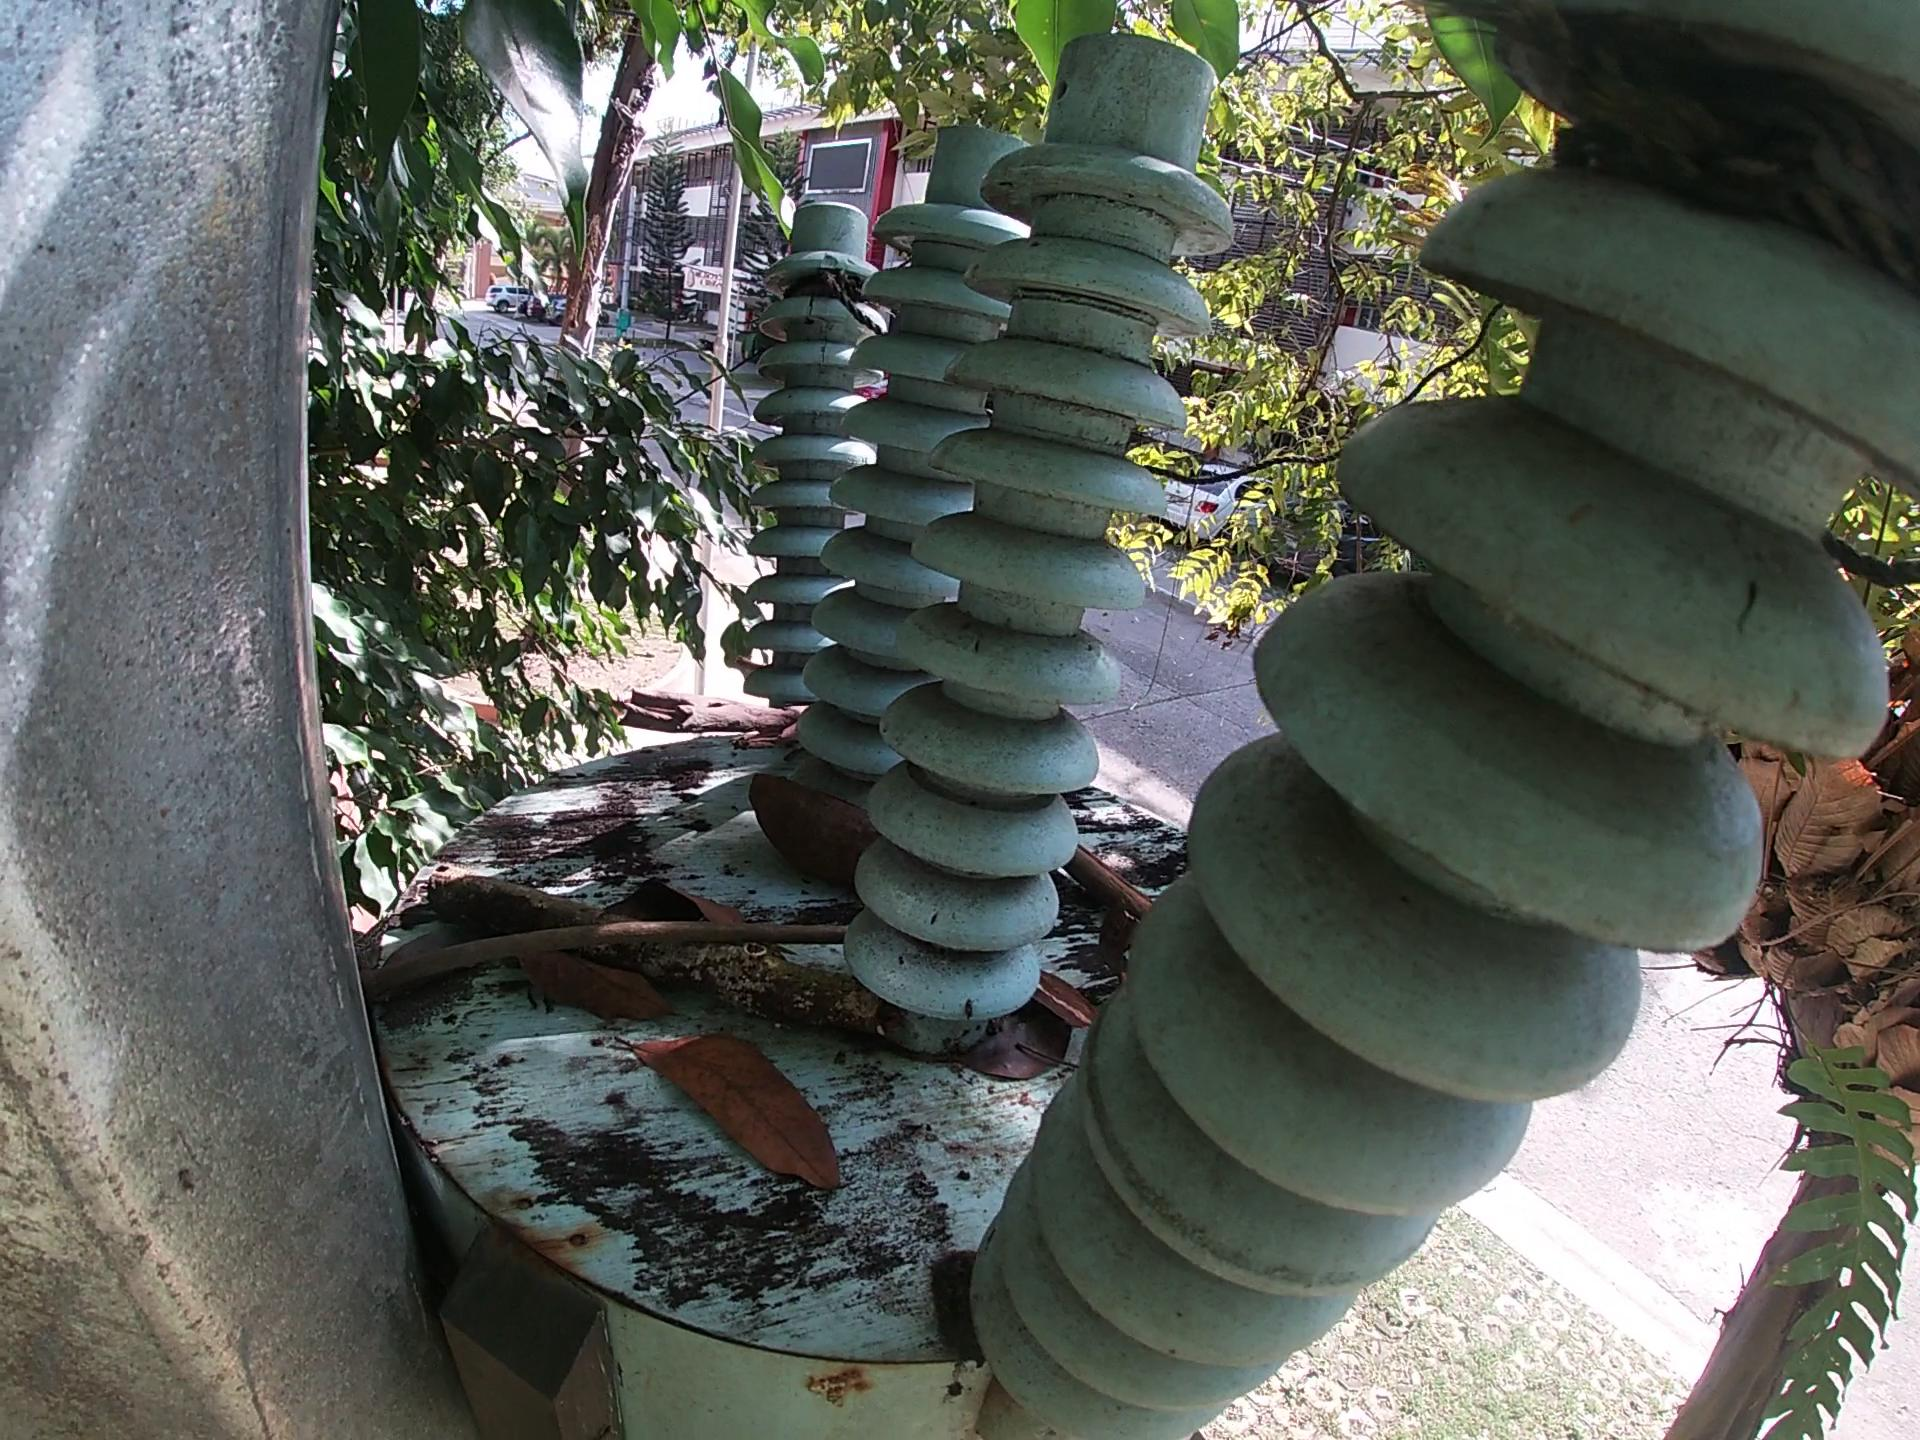leaf: (611, 1027, 850, 1196), (509, 945, 680, 1019), (921, 1013, 1076, 1085), (596, 880, 748, 926)
mahogany fruit: (745, 768, 881, 891), (1028, 970, 1098, 1032), (1098, 895, 1140, 989)
tree branch: (425, 861, 887, 1036), (352, 920, 859, 998), (618, 685, 807, 746), (1064, 839, 1160, 921)
